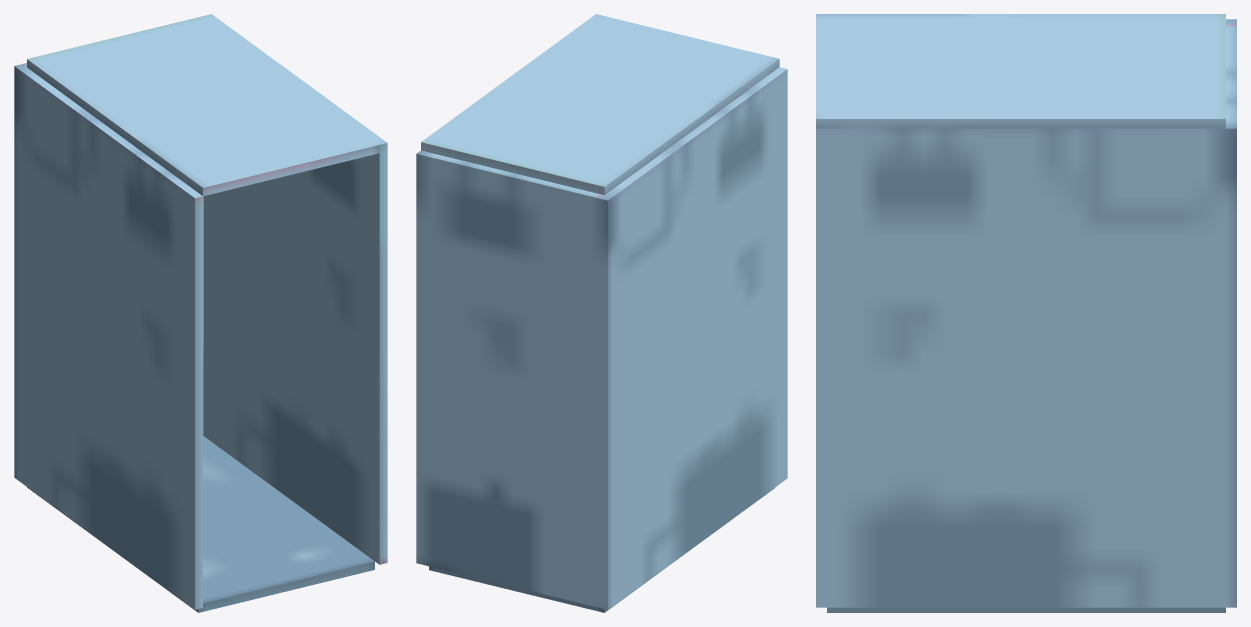
Rendered from BuildingModule_Interior_I_00.fbx.
The picture shows the model from 3 angles, left to right: view 1: azimuth 30°, elevation 25°; view 2: azimuth 150°, elevation 25°; view 3: azimuth 270°, elevation 25°; orthographic projection. The views are drawn at different scales.
Visible parts, largest first — view 1: BuildingModule_Interior_I_00; view 2: BuildingModule_Interior_I_00; view 3: BuildingModule_Interior_I_00.
Part boxes in pixels (left/top/right/bottom): BuildingModule_Interior_I_00: left=14, top=14, right=387, bottom=612; BuildingModule_Interior_I_00: left=416, top=14, right=787, bottom=612; BuildingModule_Interior_I_00: left=816, top=14, right=1236, bottom=612.
Size of the model in its own units: 120 by 255 by 195.
